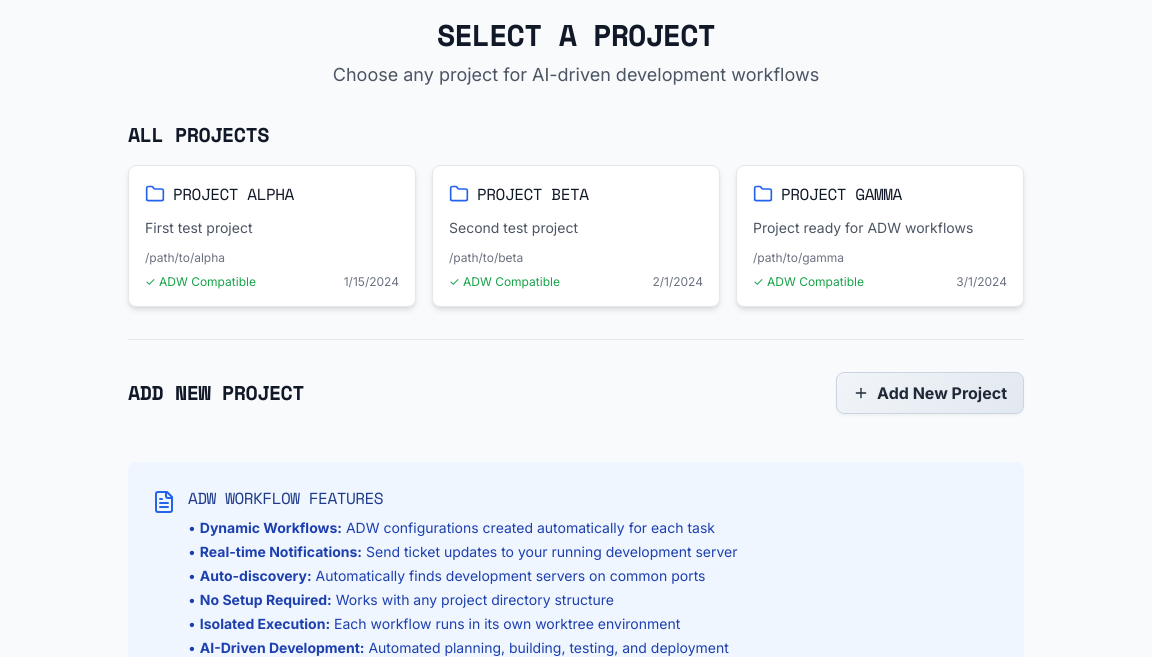
ProjectSelector Component › Add New Project › should enable "Add Project" button when fields are filled
The width and height of the screenshot is (1152, 657).
Click the button "Add New Project": (930, 393) [836,372,1024,414]
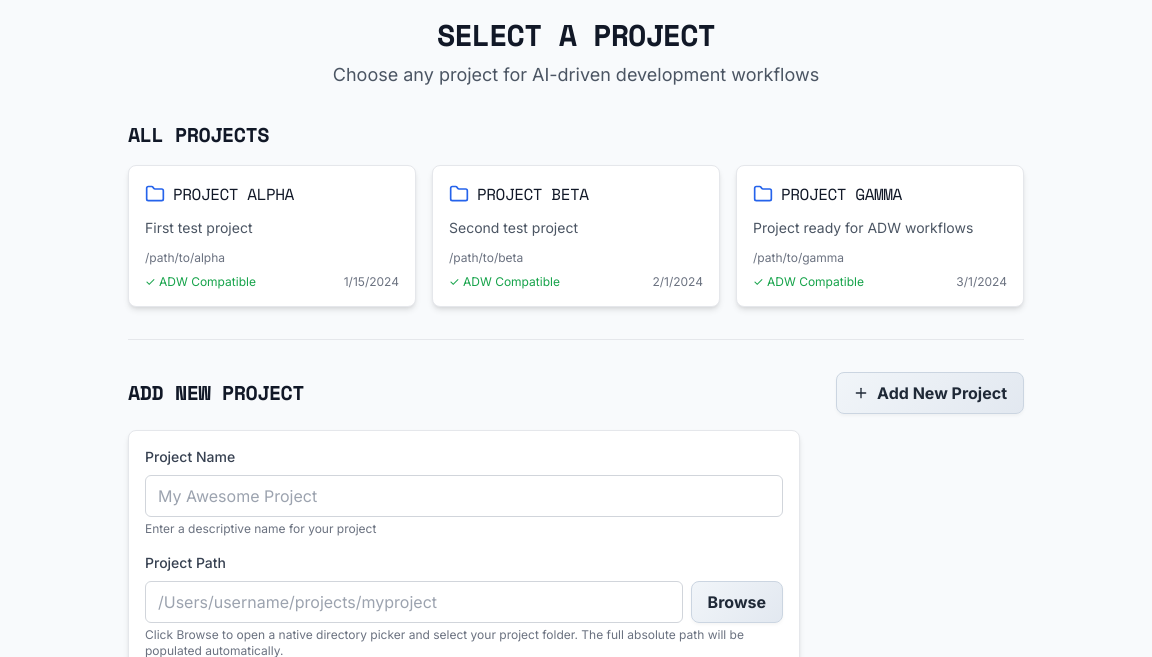
In the field with placeholder "My Awesome Project": (464, 496) [145,475,783,517], type "New Project"
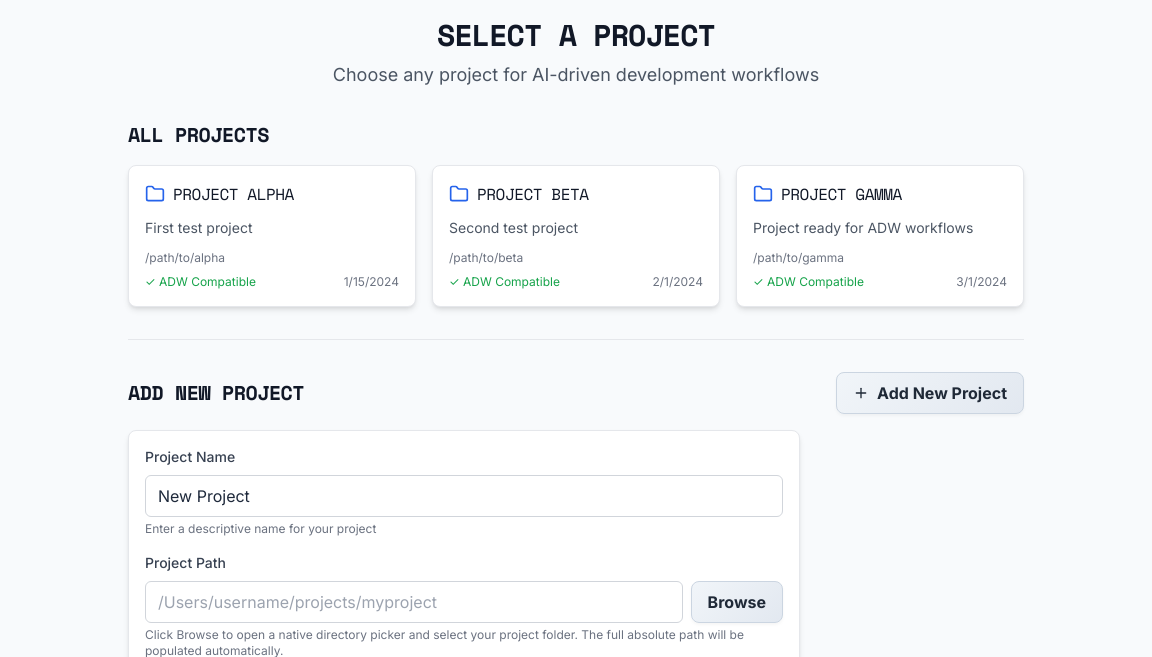
In the field with placeholder "/Users/username/projects/myproject": (414, 602) [145,581,683,623], type "/new/path"
(page scrolled)
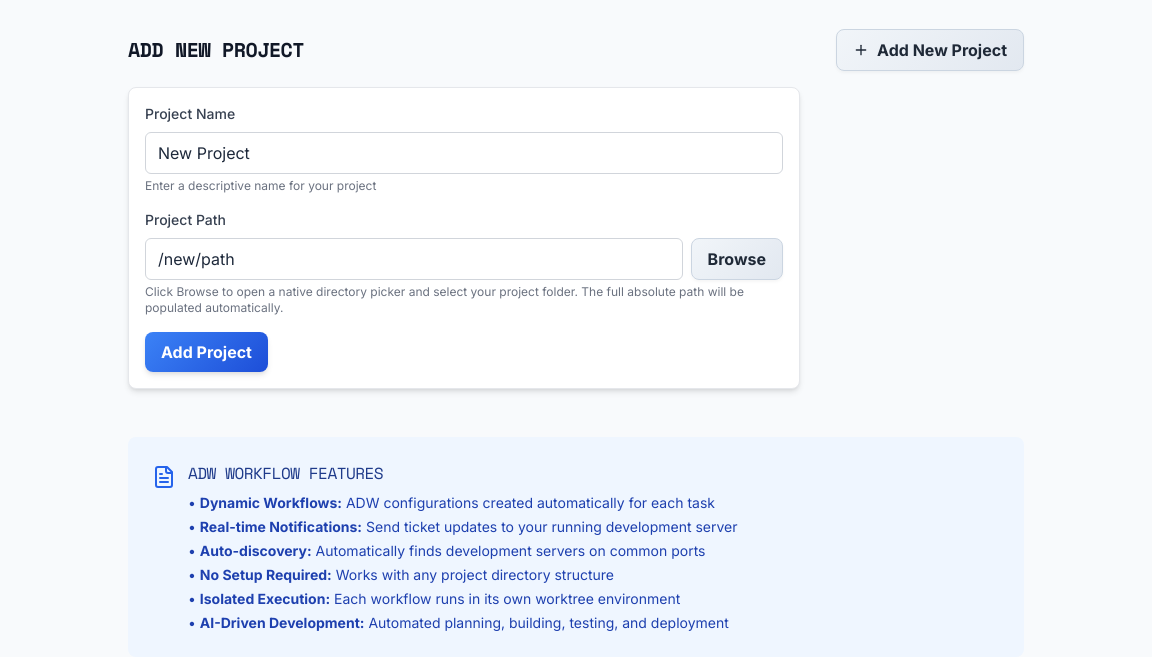
Check: the button "Add Project" is enabled, box [145,332,268,372]
